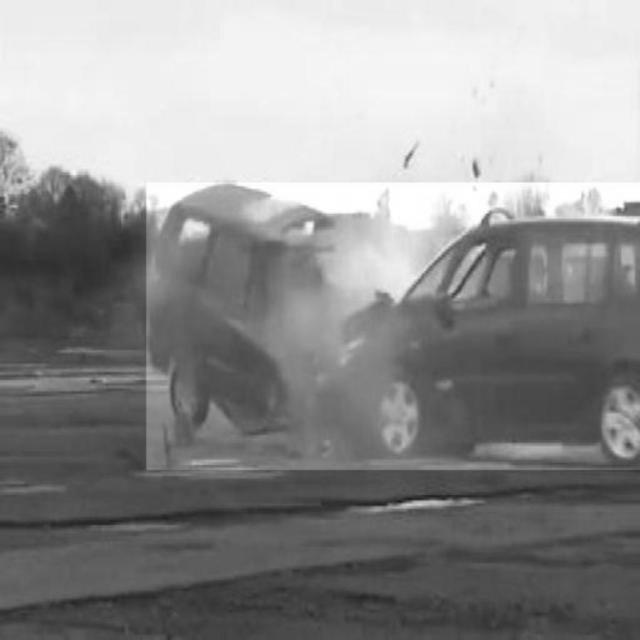accident: (146, 183, 640, 471)
